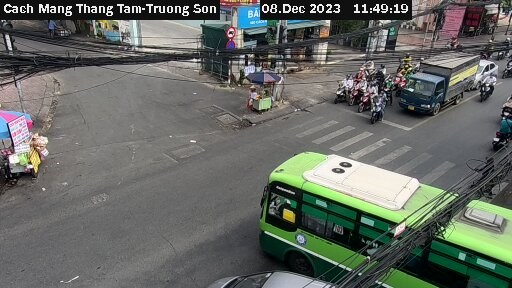bus: (257, 143, 512, 285)
car: (204, 256, 340, 288), (475, 54, 502, 82)
motorbike: (367, 92, 395, 124), (476, 73, 497, 101), (331, 76, 352, 103), (355, 89, 377, 111)
truck: (400, 52, 477, 111)
